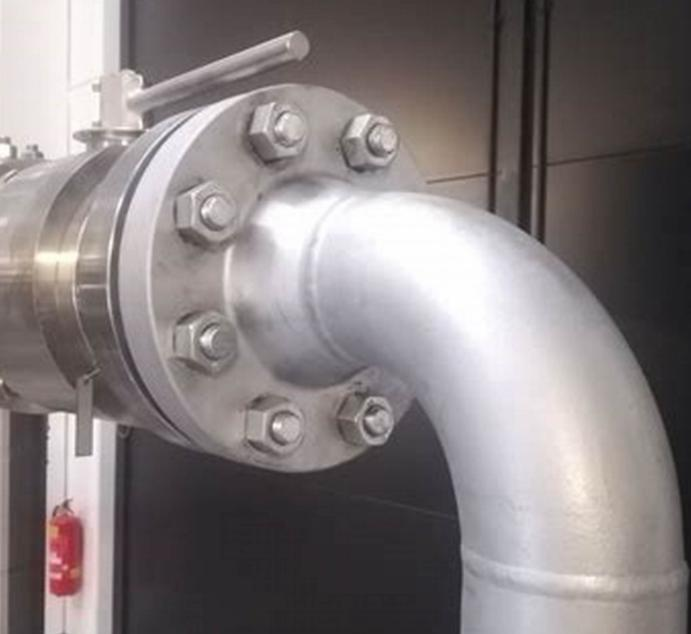bolt_b: (170, 177, 244, 251), (169, 303, 243, 376), (239, 390, 310, 459), (246, 94, 314, 165), (337, 106, 403, 175), (336, 388, 397, 452)
